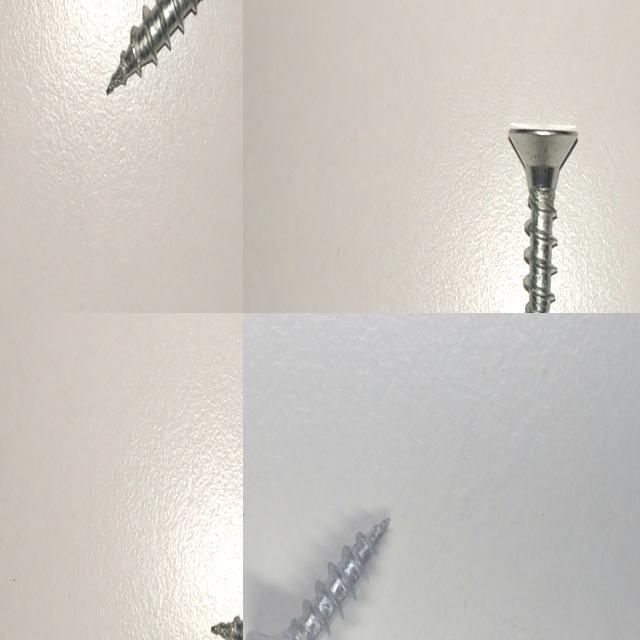Screw: (245, 517, 389, 640), (508, 123, 578, 313), (106, 0, 199, 93)
